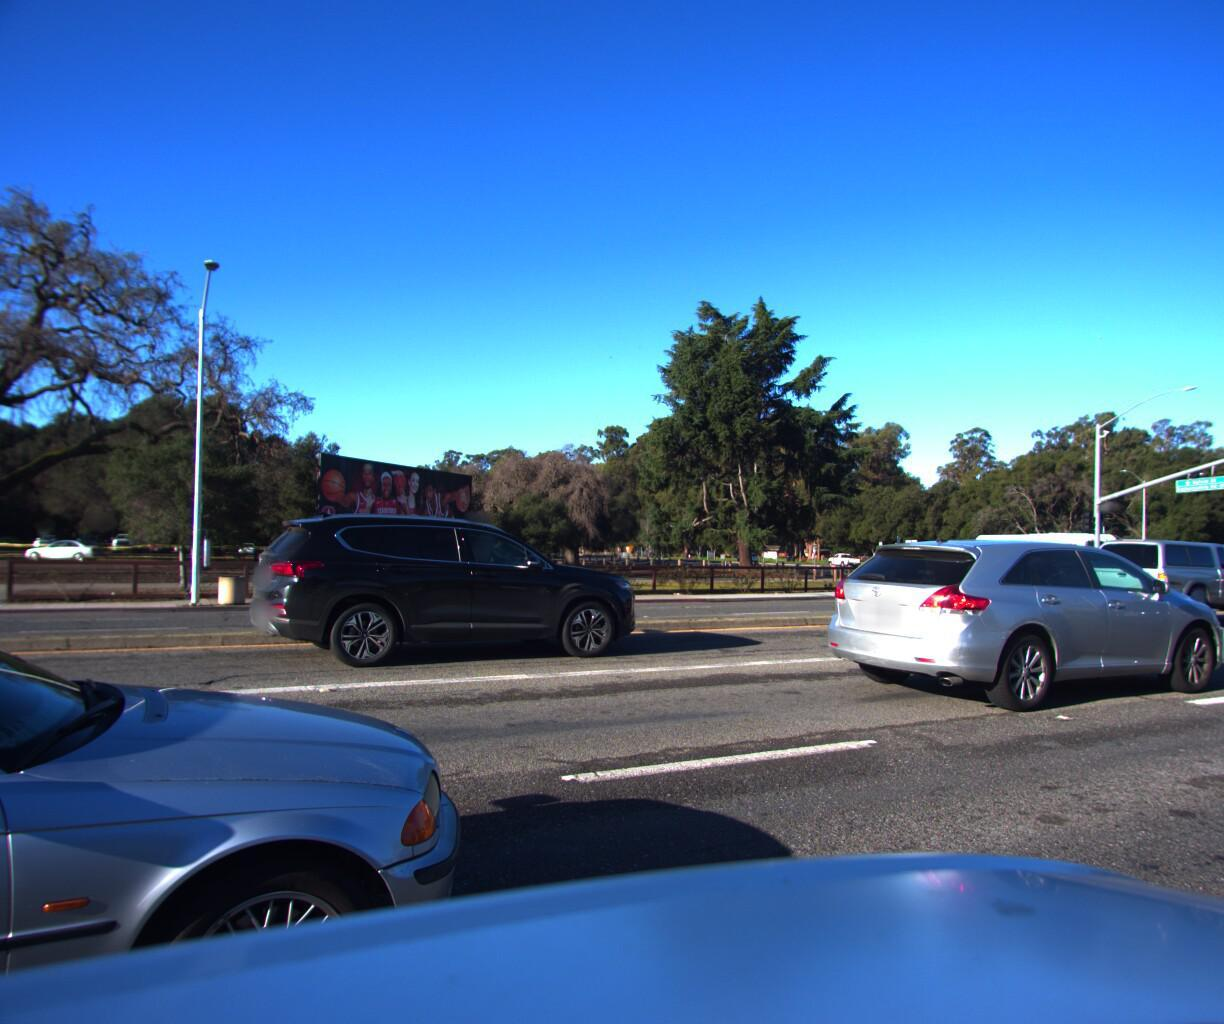bus: (965, 525, 1133, 577)
car: (0, 550, 573, 1024), (807, 524, 1224, 720), (233, 495, 647, 671), (1070, 526, 1224, 626)
